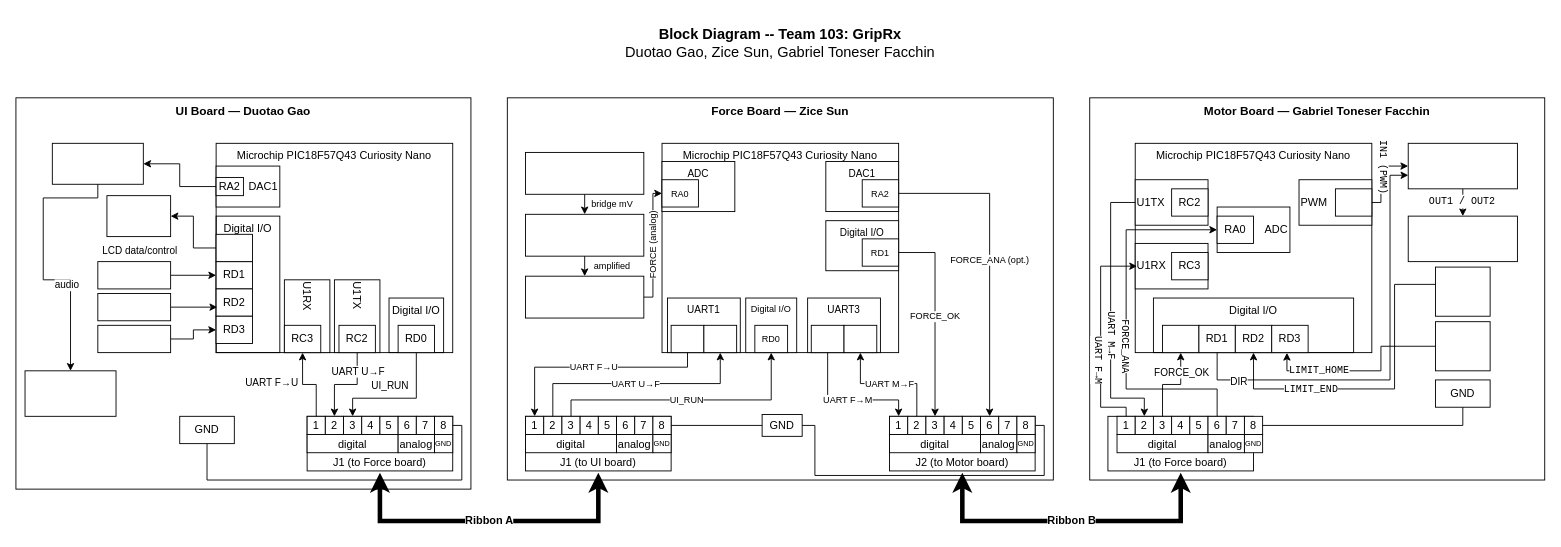
This 1561x547 diagram has some shape labels left out. The shapes that lost their labels are listed below. From the top down, each one's centre as x and y in pixels, then its label:
(97,163): Inverting Amp (Op Amp) Microchip MCP6004-I/P
(584,173): Load Cell (sensor) Phidgets 3135_0 (CZL635-50)
(1462,165): H-Bridge Driver Texas Instruments DRV8871DDAR
(138,216): LCD, Newhaven NHD-0216K1Z- FSW-FBW-L
(1353,202): RB3
(234,247): RE0,RE1 RD4–RD7
(584,234): Instrumentation Amp Texas Instruments INA125P
(1462,238): Gear Motor (actuator) DFRobot FIT0492-A
(134,275): START/STOP
(1462,291): Limit switch (home) Omron D2F-01L
(134,307): UP
(584,296): RC Low-Pass Filter 3.3 kΩ + 4.7 µF (fc ≈ 10 Hz)
(134,338): DOWN
(687,338): TX RC2
(720,338): RX RC3
(827,338): TX RA3
(860,338): RX RA4
(1180,338): RB5
(1462,346): Limit switch (end) Omron D2F-01L
(70,393): Speaker (actuator) Same Sky CMS-3652-28L200
